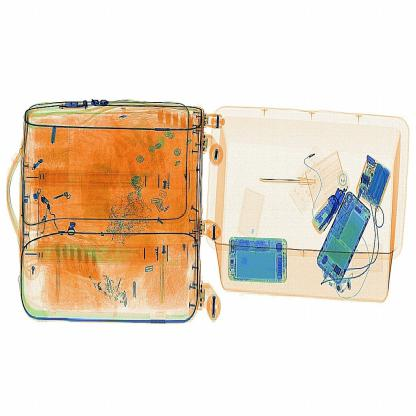pliers: (255, 160, 317, 196)
